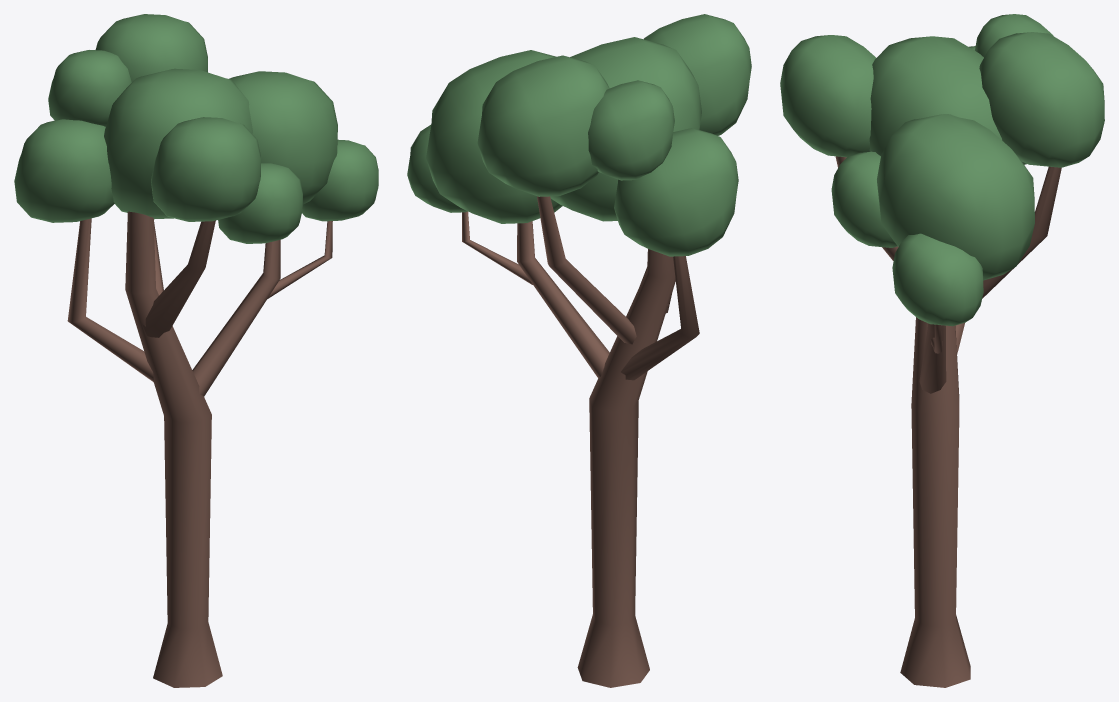
The model's file is Abeto_Tree.fbx.
3 renders of one model, left to right at view 1: azimuth 30°, elevation 25°; view 2: azimuth 150°, elevation 25°; view 3: azimuth 270°, elevation 25°, orthographic. The views are drawn at different scales.
Visible parts, largest first — view 1: Tree_Abeto_Foliage_lp, Tree_Abeto_Trunk_lp; view 2: Tree_Abeto_Foliage_lp, Tree_Abeto_Trunk_lp; view 3: Tree_Abeto_Foliage_lp, Tree_Abeto_Trunk_lp.
Part boxes in pixels (x1,y1,x2,y2): Tree_Abeto_Foliage_lp: (14,14,378,243); Tree_Abeto_Trunk_lp: (67,211,332,687); Tree_Abeto_Foliage_lp: (407,14,751,256); Tree_Abeto_Trunk_lp: (462,196,699,687); Tree_Abeto_Foliage_lp: (780,14,1104,326); Tree_Abeto_Trunk_lp: (835,156,1061,687).
Bounding box in the file's own units: 9.26 × 16.65 × 7.7.
